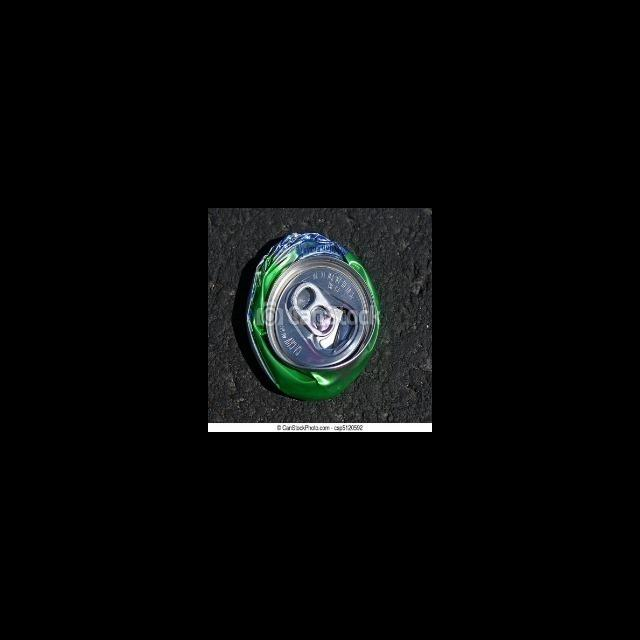metal: (229, 222, 393, 411)
